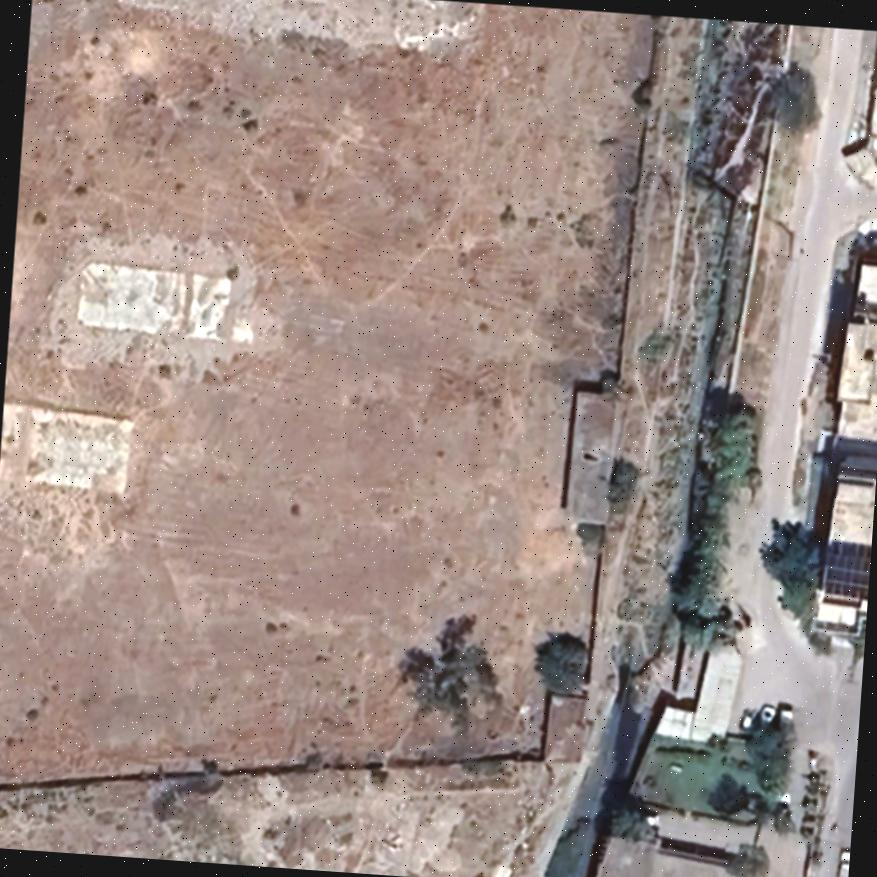Solarpanel: (814, 536, 869, 601)
